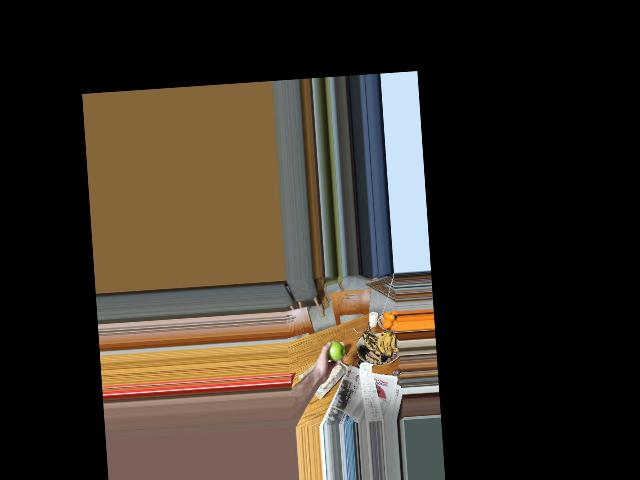apple: (322, 338, 345, 363)
